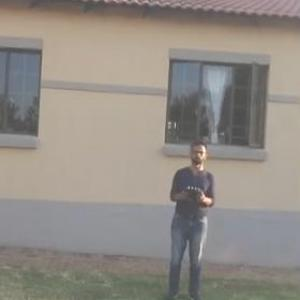follow: (164, 135, 220, 299)
